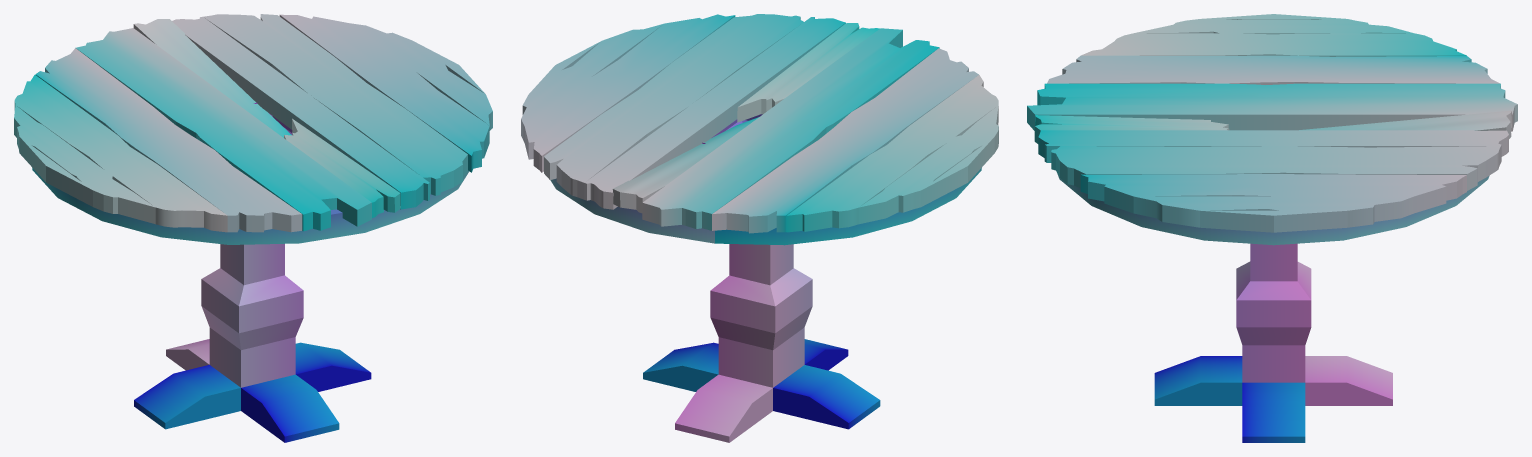
3 renders of one model, left to right at view 1: azimuth 30°, elevation 25°; view 2: azimuth 150°, elevation 25°; view 3: azimuth 270°, elevation 25°, orthographic.
Visible parts, largest first — view 1: SM_Roots_01_LOD0; view 2: SM_Roots_01_LOD0; view 3: SM_Roots_01_LOD0.
Boxes of the visible parts, x1,y1,x2,y2 form: SM_Roots_01_LOD0: (14, 14, 492, 442); SM_Roots_01_LOD0: (521, 14, 998, 442); SM_Roots_01_LOD0: (1027, 14, 1517, 442).
Bounding box in the file's own units: 1.37 × 0.8918 × 1.41.
